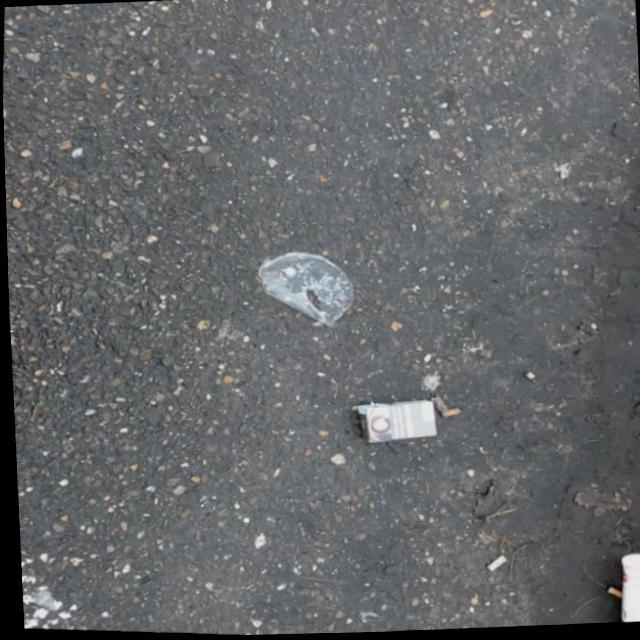Cup: (613, 551, 640, 625)
Paper: (252, 248, 354, 332), (351, 398, 438, 448)
